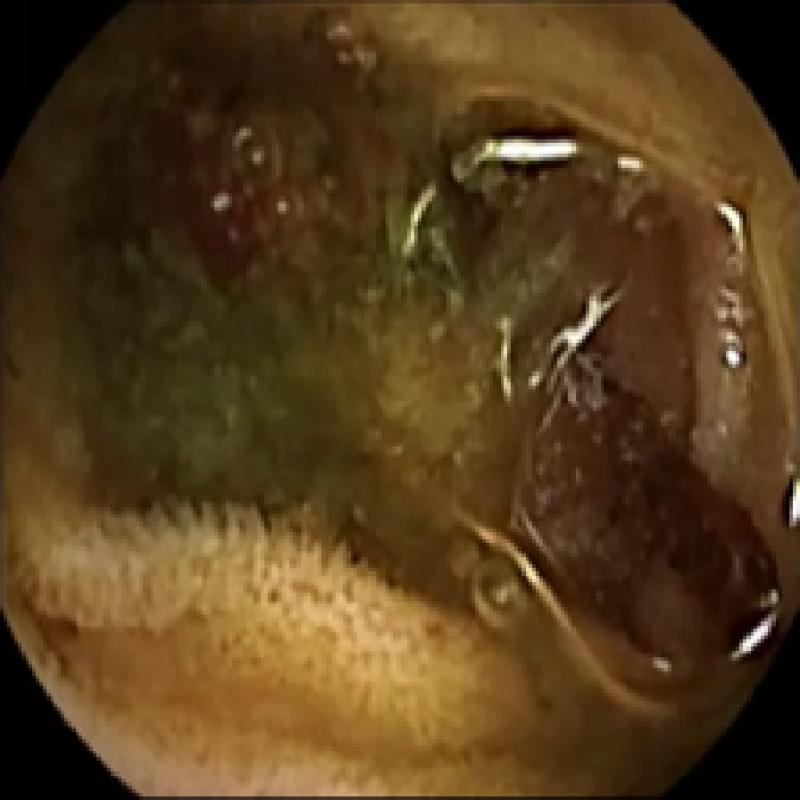bleeding: (566, 377, 775, 653), (143, 114, 257, 275)
